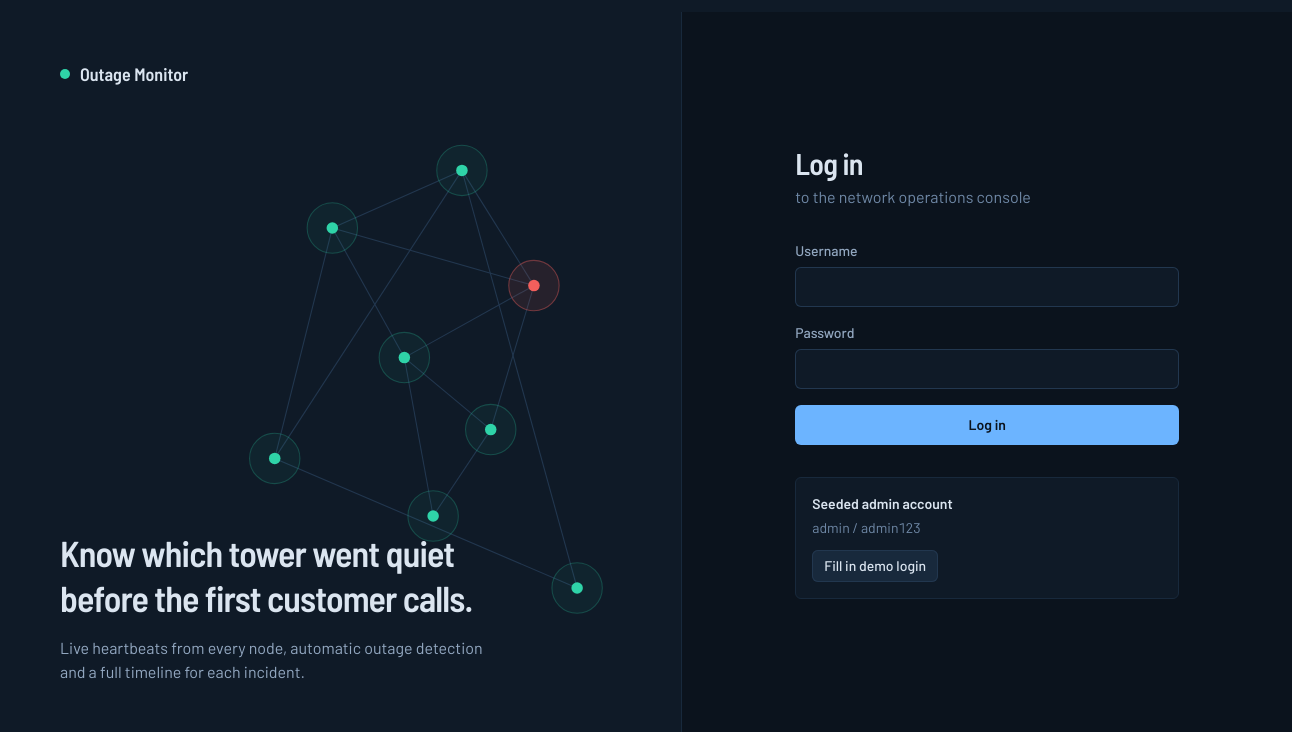
it: LoginPage › asks for both fields before calling the API
Click the button "Log in" at (987, 425), box 795,405 -> 1179,445
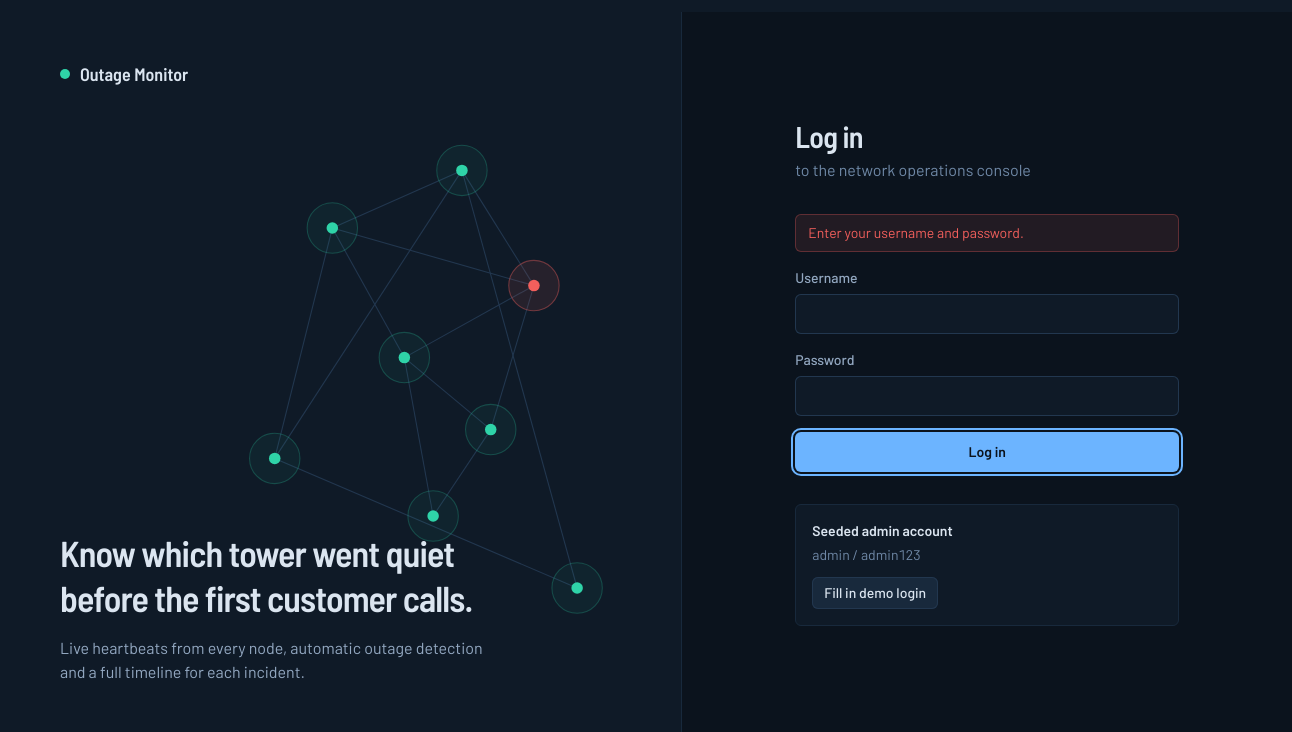
Check: the message reads "Enter your username and password.", box 808,224 -> 1024,241
